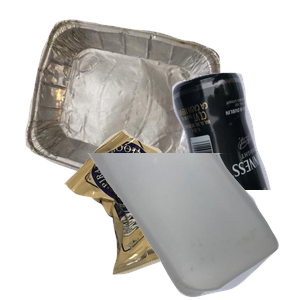glass: (106, 70, 300, 250)
metal: (23, 17, 236, 197)
plastic: (84, 153, 300, 300)
trash: (61, 127, 260, 300)
